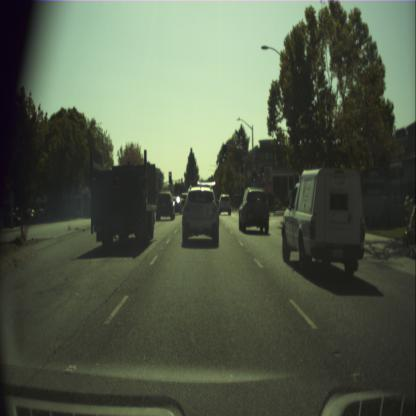Green: (252, 170, 256, 182), (260, 166, 264, 178), (223, 144, 226, 158)
Red: (168, 172, 172, 183)
